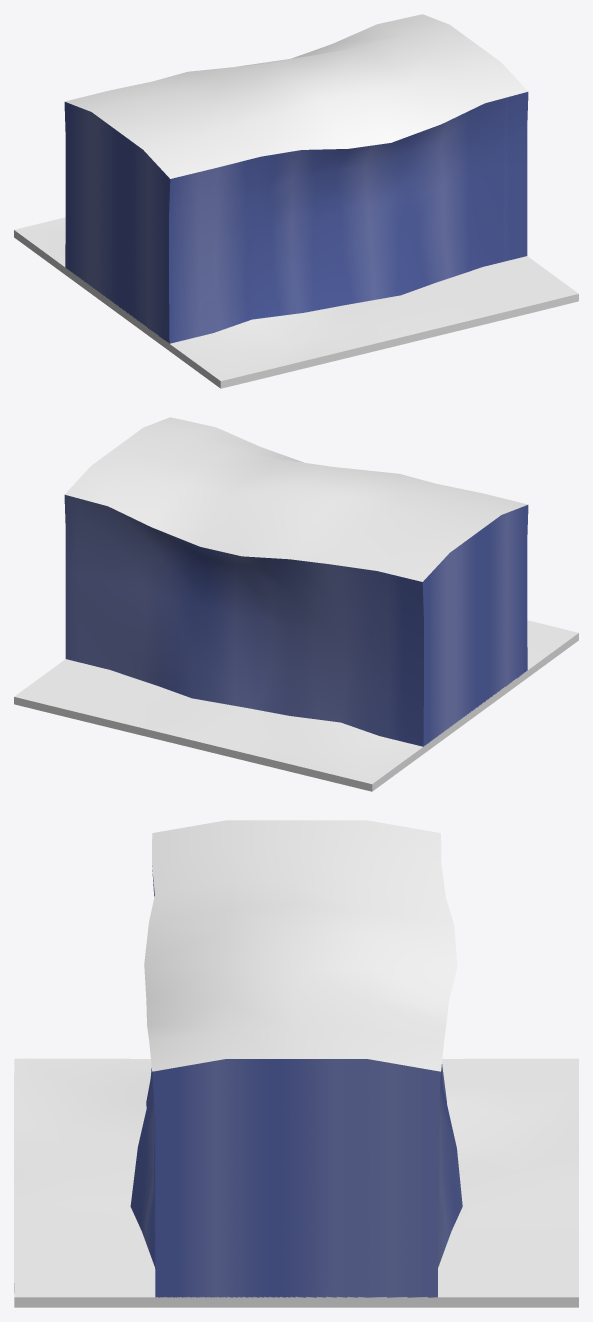
File: wall_slim_extend_1.glb
The picture shows the model from 3 angles, top to bottom: view 1: azimuth 30°, elevation 25°; view 2: azimuth 150°, elevation 25°; view 3: azimuth 270°, elevation 25°; orthographic projection. The views are drawn at different scales.
Visible parts, largest first — view 1: wall_slim_extend_1.001; view 2: wall_slim_extend_1.001; view 3: wall_slim_extend_1.001.
Boxes of the visible parts, box(x1,y1,x2,y2) form: wall_slim_extend_1.001: box(14, 14, 578, 388); wall_slim_extend_1.001: box(14, 417, 578, 791); wall_slim_extend_1.001: box(14, 820, 578, 1307).
Bounding box in the file's own units: 2 × 1 × 2.
1 material, 1 textured.
